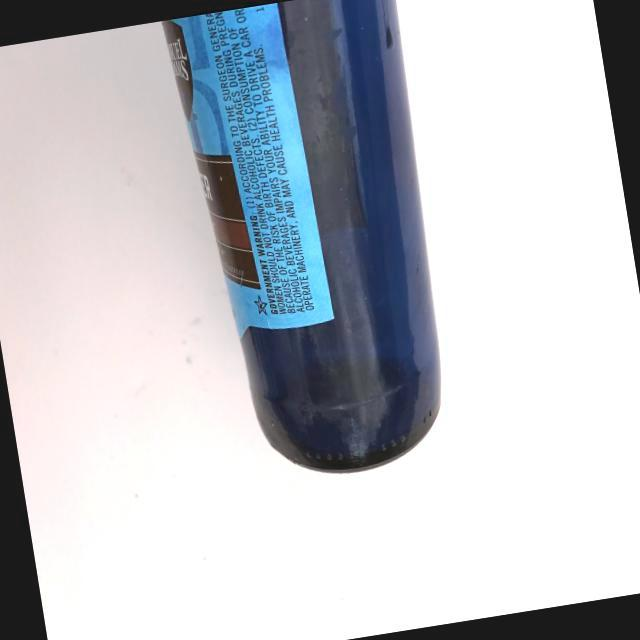glass: (152, 0, 499, 508)
